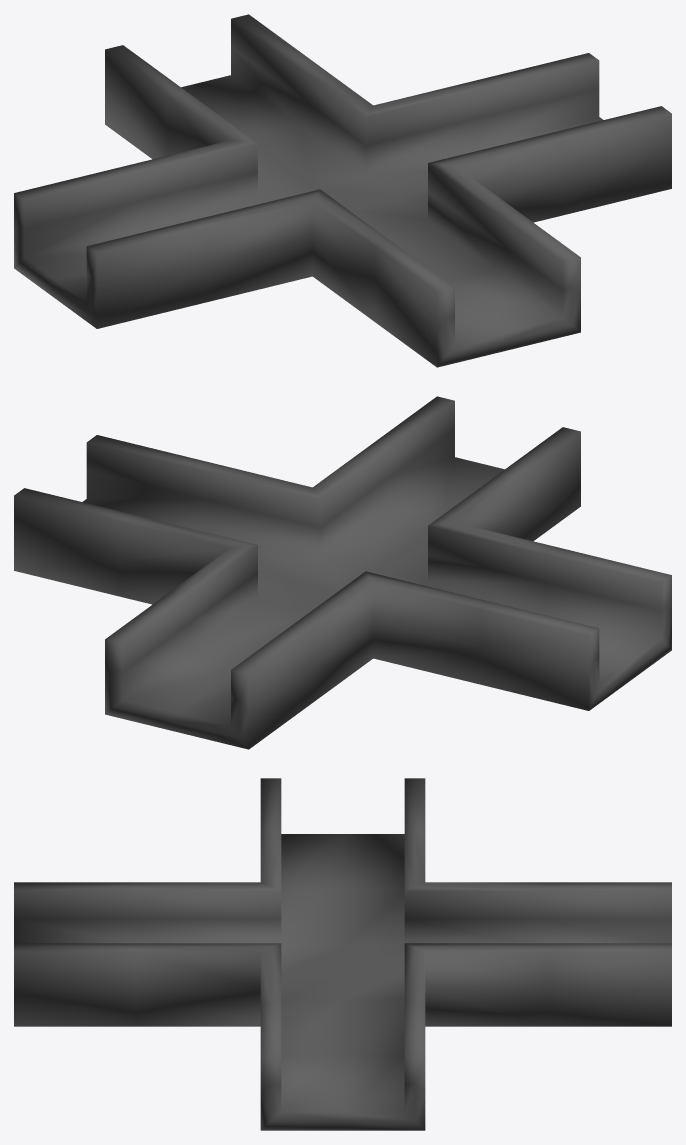
3 renders of one model, top to bottom at view 1: azimuth 30°, elevation 25°; view 2: azimuth 150°, elevation 25°; view 3: azimuth 270°, elevation 25°, orthographic.
Parts seen in each view (by area): view 1: defaultobject; view 2: defaultobject; view 3: defaultobject.
Part boxes in pixels (<box>): defaultobject: <box>14,14,671,367</box>; defaultobject: <box>14,396,671,749</box>; defaultobject: <box>14,778,671,1130</box>.
Bounding box in the file's own units: 1 × 0.125 × 1.
1 material, 1 textured.
